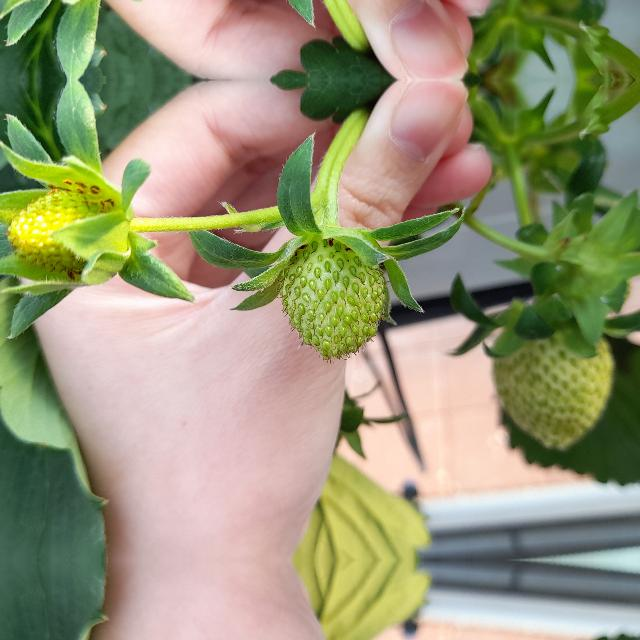Health_25: (279, 237, 385, 359)
